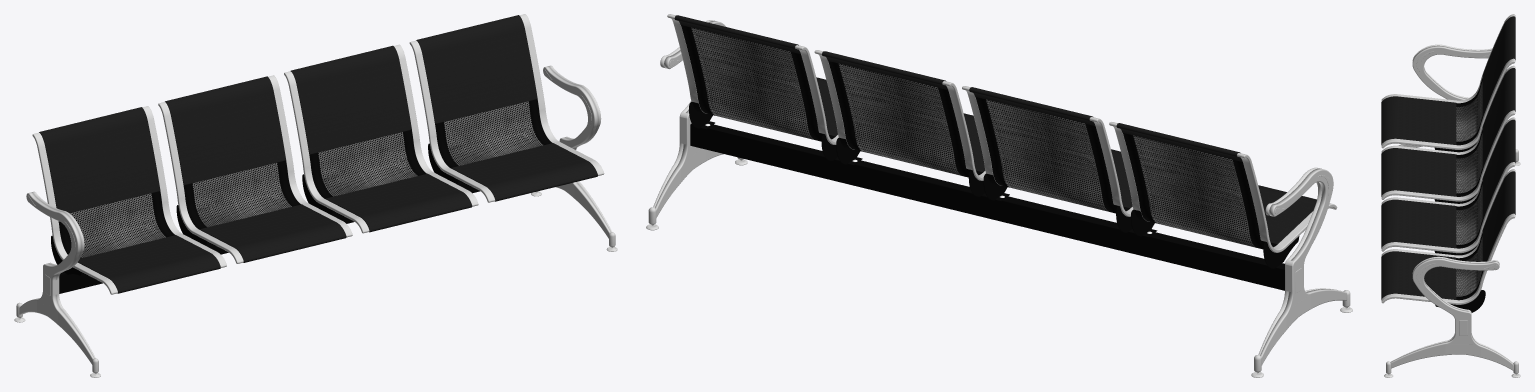
The model's file is kursi tunggu 2.fbx.
3 renders of one model, left to right at view 1: azimuth 30°, elevation 25°; view 2: azimuth 150°, elevation 25°; view 3: azimuth 270°, elevation 25°, orthographic. The views are drawn at different scales.
Visible parts, largest first — view 1: Group#1.001, Group#1.003, Group#1.002, Group#1, Component#2.001, Component#2.003, Component#2.002, Component#2, Component#11.002, Component#11.001, Group#4.006, Group#4.002 (+9 smaller); view 2: Component#16, Component#2.003, Component#2.001, Component#2.002, Component#2, Component#11.002, Group#1, Group#1.001, Group#1.003, Group#1.002, Component#11.001, Group#4 (+16 smaller); view 3: Group#1, Group#1.001, Group#1.002, Group#1.003, Component#11, Component#11.003, Component#2.002, Component#2, Component#2.001, Group#4.005, Group#4.001, Group#4.003 (+10 smaller).
Part boxes in pixels (x1,y1,x2,y2): Group#1.001: [290, 45, 472, 232]; Group#1.003: [416, 15, 597, 201]; Group#1.002: [165, 76, 346, 262]; Group#1: [39, 107, 220, 293]; Component#2.001: [318, 132, 417, 196]; Component#2.003: [444, 101, 543, 165]; Component#2.002: [192, 162, 291, 227]; Component#2: [70, 193, 166, 257]; Component#11.002: [19, 192, 94, 364]; Component#11.001: [543, 66, 610, 238]; Group#4.006: [409, 40, 495, 202]; Group#4.002: [284, 71, 369, 233]; Component#16: [690, 123, 1284, 290]; Component#2.003: [691, 27, 814, 139]; Component#2.001: [839, 63, 961, 175]; Component#2.002: [986, 99, 1109, 211]; Component#2: [1133, 135, 1256, 247]; Component#11.002: [1260, 168, 1346, 365]; Group#1: [1116, 123, 1316, 244]; Group#1.001: [822, 51, 985, 172]; Group#1.003: [674, 15, 837, 136]; Group#1.002: [969, 87, 1132, 208]; Component#11.001: [655, 20, 725, 217]; Group#4: [1237, 153, 1337, 252]; Group#1: [1381, 16, 1515, 144]; Group#1.001: [1381, 119, 1515, 248]; Group#1.002: [1381, 68, 1515, 196]; Group#1.003: [1381, 171, 1515, 299]; Component#11: [1390, 258, 1513, 370]; Component#11.003: [1399, 45, 1491, 147]; Component#2.002: [1456, 133, 1482, 193]; Component#2: [1456, 81, 1482, 141]; Component#2.001: [1456, 185, 1482, 244]; Group#4.005: [1381, 110, 1515, 201]; Group#4.001: [1381, 58, 1515, 149]; Group#4.003: [1381, 162, 1515, 253].
Bounding box in the file's own units: 238 × 79.95 × 65.09.
Materials: 8 (2 with a texture image).
